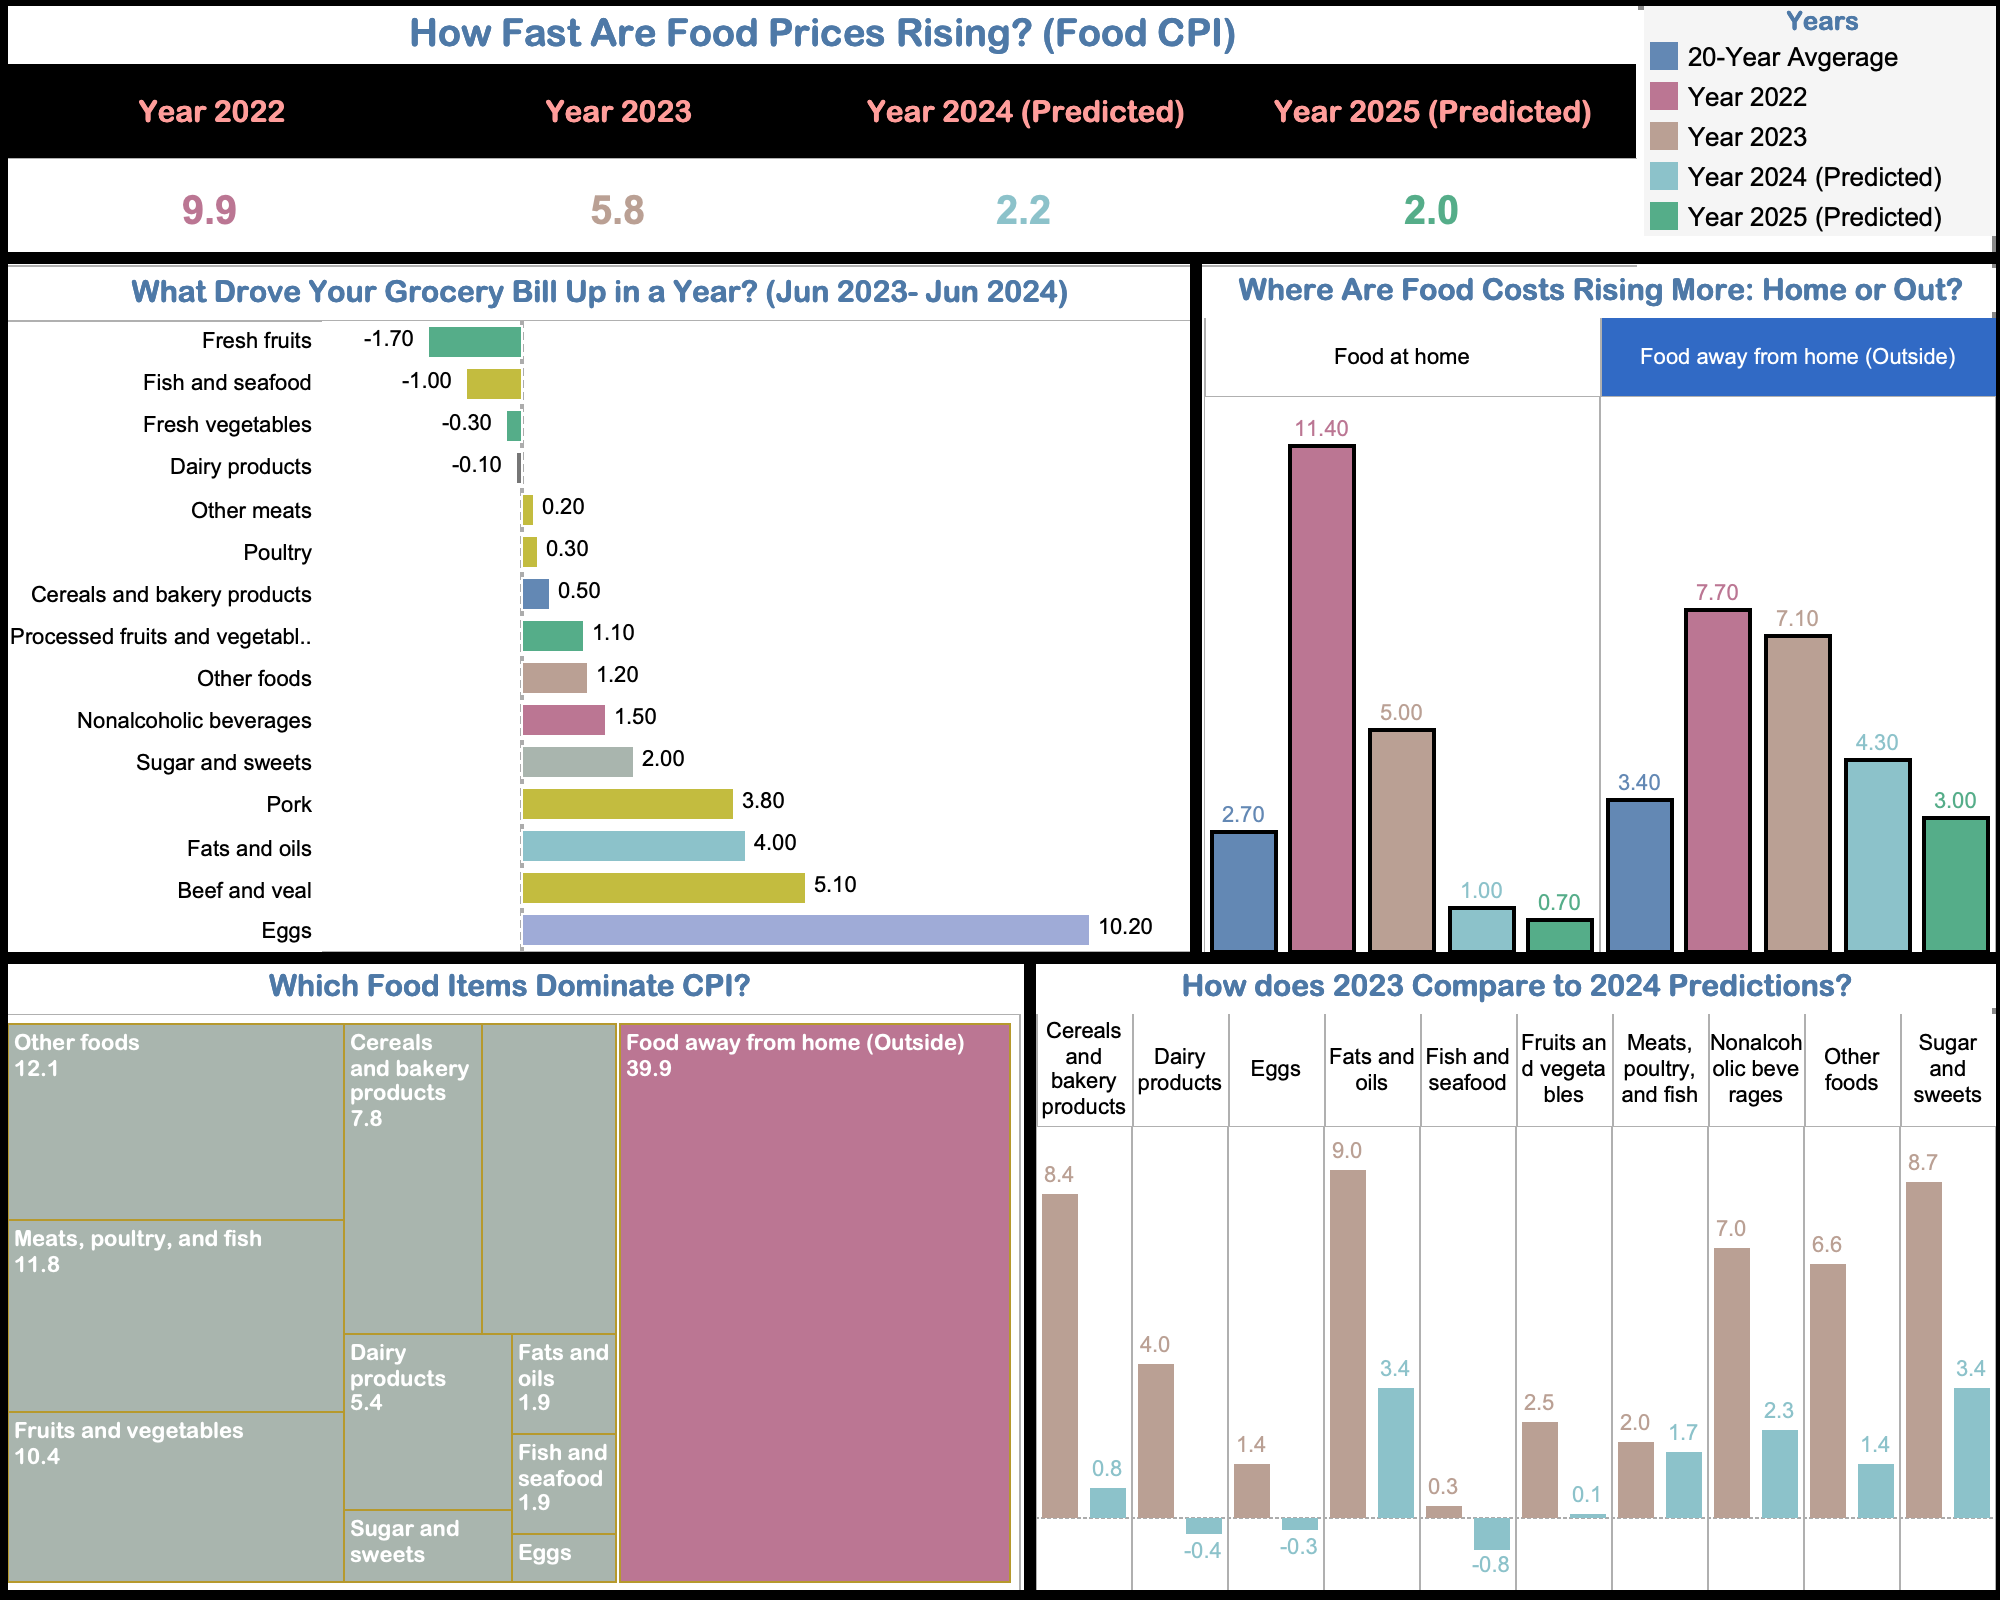

Layout of this report page (visuals, bound fields, positions):
{"tool":"tableau","page":{"name":"Dashboard 1","canvas":[1000,800],"ordinal":0},"visuals":[{"type":"legend","title":"Slide 3.","param":"[federated.1317sth07gcaoj1dqdaql1gjx2tf].[:Measure Names]","box":[822,1,177,132]},{"type":"blank","box":[1,2,998,796]},{"type":"worksheet","title":"Slide 4","mark":"Automatic","box":[4,3,815,131]},{"type":"worksheet","title":"Slide 3.","mark":"Automatic","cols":["Consumer Price Index item"],"box":[602,134,397,344]},{"type":"worksheet","title":"Sheet 1","mark":"Automatic","rows":["Sub Category"],"cols":["Year-over-year June 2023 to June 2024"],"box":[1,135,598,343]},{"type":"worksheet","title":"Slide 2","mark":"Automatic","cols":["Consumer Price Index item"],"box":[518,482,481,316]}]}

Visuals, with their boxes in screenshot pixels (x1, y1, x2, y2), scaled from the page's 1000x800 canvas onto the 2000x1600 screenshot:
"Slide 3." legend: bbox(1644, 2, 1998, 266)
blank: bbox(2, 4, 1998, 1596)
"Slide 4" worksheet: bbox(8, 6, 1638, 268)
"Slide 3." worksheet: bbox(1204, 268, 1998, 956)
"Sheet 1" worksheet: bbox(2, 270, 1198, 956)
"Slide 2" worksheet: bbox(1036, 964, 1998, 1596)
